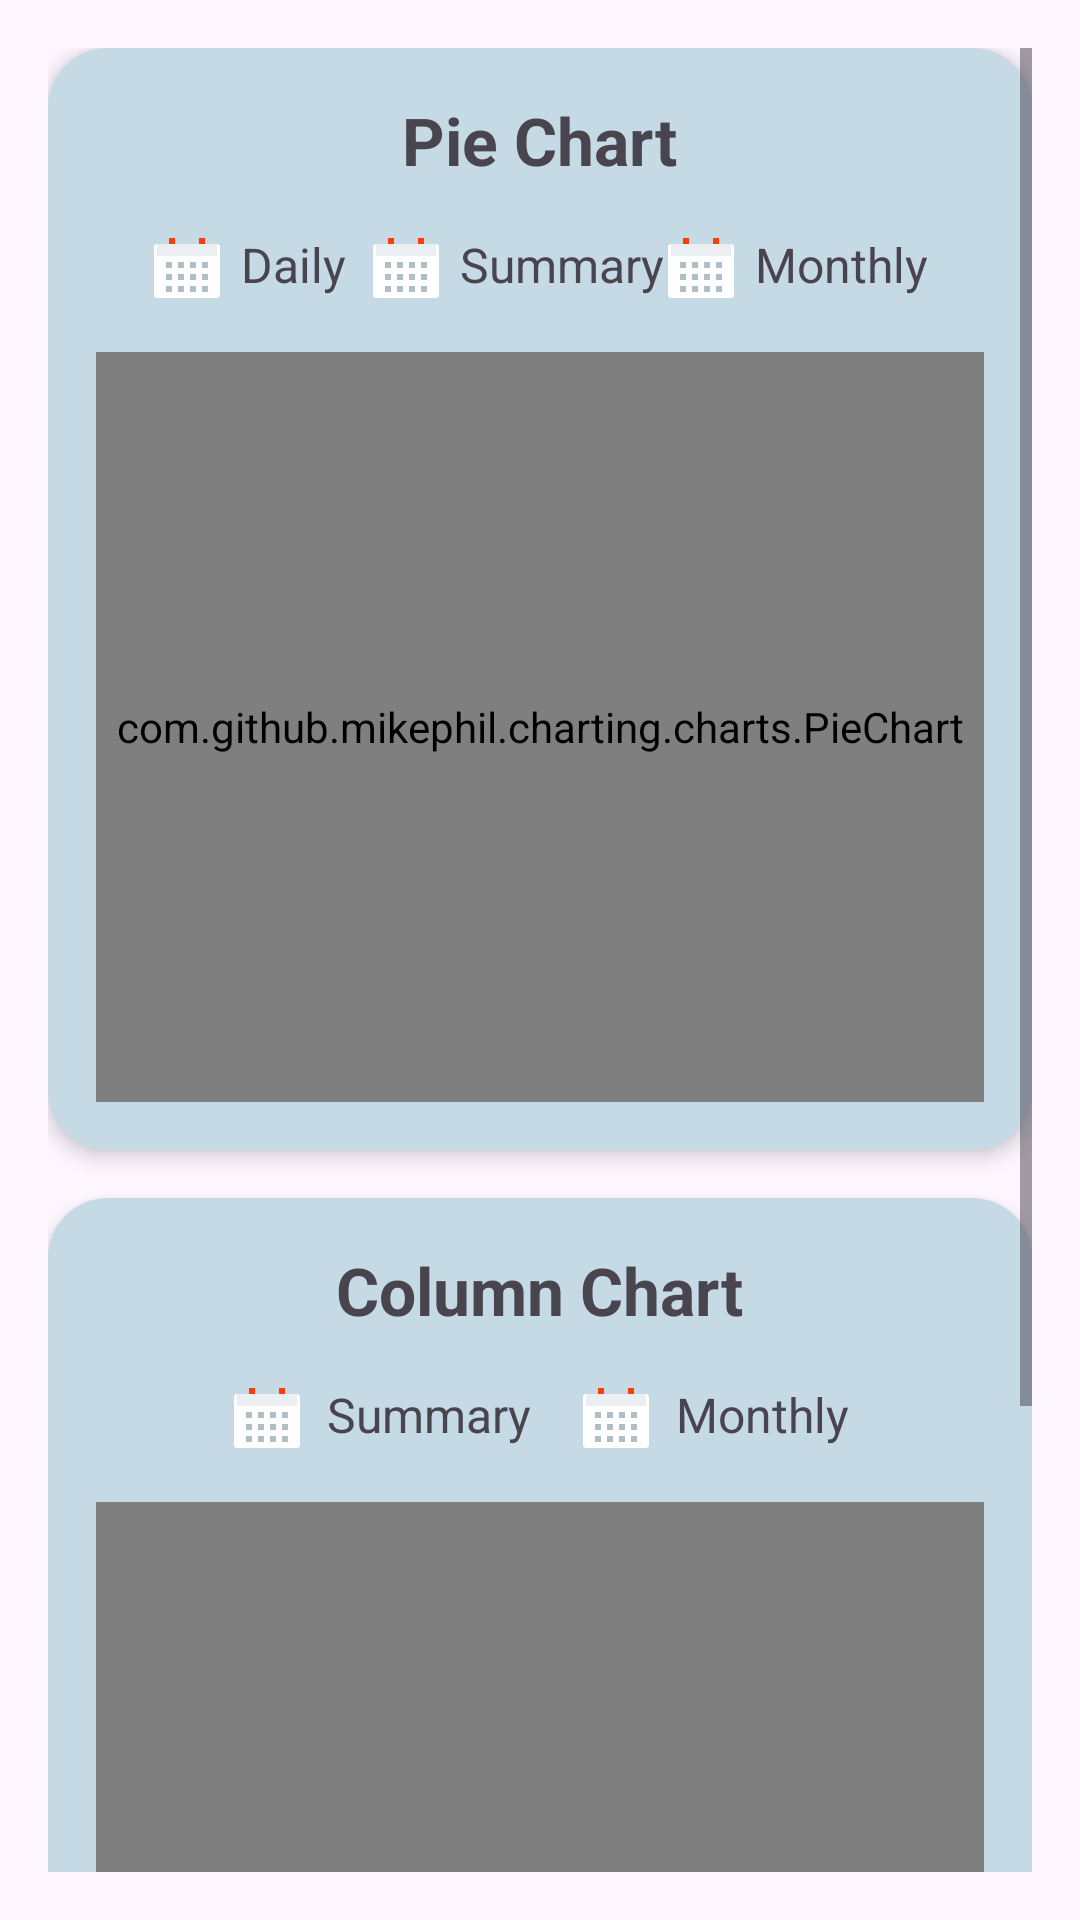

Locate icon controls on the screen. Image size 1080 × 1920, boxes as (x1, y1, x2, y2).
calendar: (154, 238, 220, 298), (373, 238, 439, 298), (668, 238, 734, 298), (234, 1388, 300, 1448), (583, 1388, 649, 1448)
